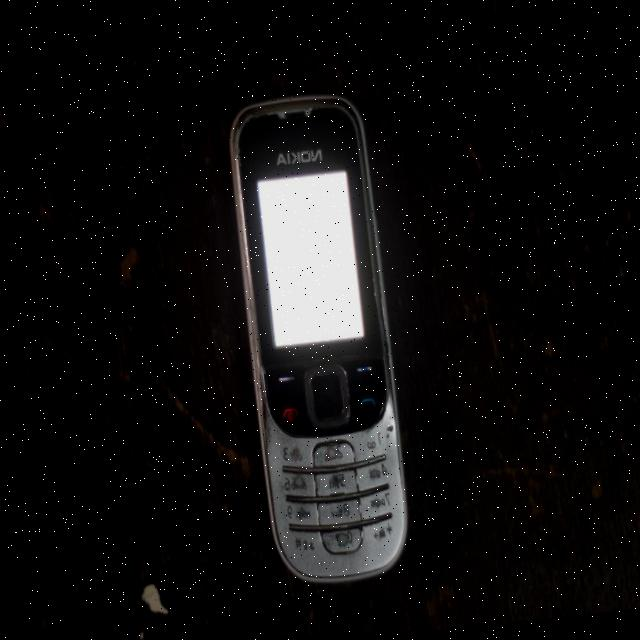Phone: (220, 85, 418, 590)
